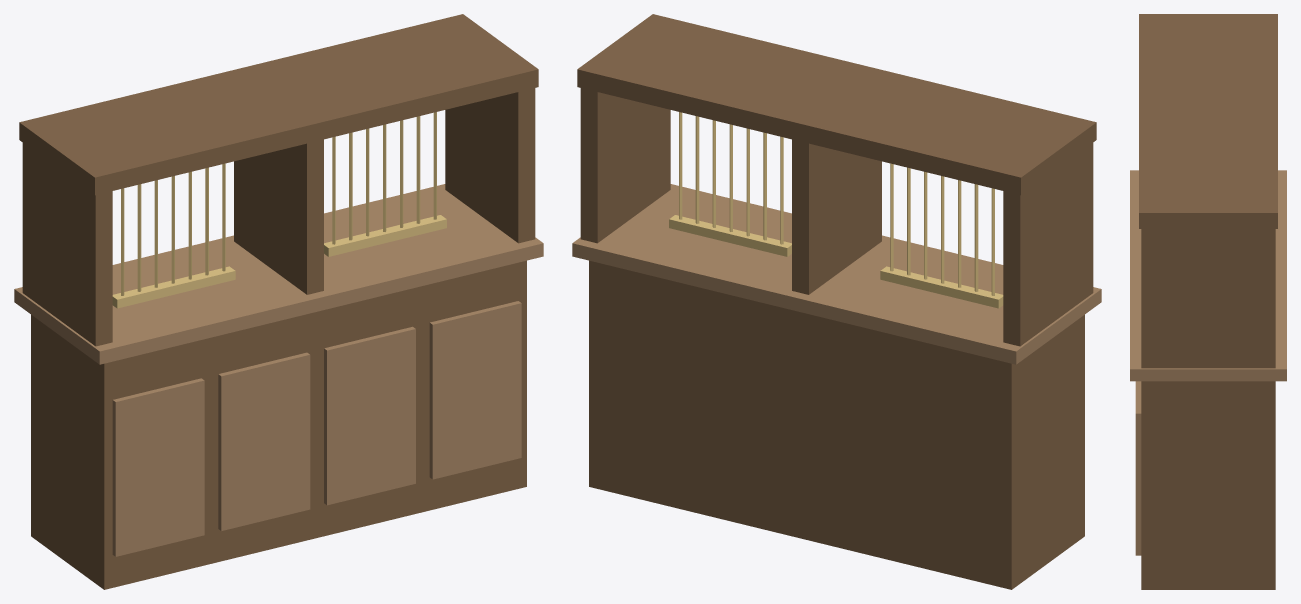
File: SM_Bank_Counter.glb
3 views of the same model, side by side, from view 1: azimuth 30°, elevation 25°; view 2: azimuth 150°, elevation 25°; view 3: azimuth 270°, elevation 25° (orthographic). The views are drawn at different scales.
Visible parts, largest first — view 1: SM_Bank_Counter; view 2: SM_Bank_Counter; view 3: SM_Bank_Counter.
Boxes of the visible parts, x1,y1,x2,y2 form: SM_Bank_Counter: [14, 14, 543, 589]; SM_Bank_Counter: [572, 14, 1101, 589]; SM_Bank_Counter: [1130, 14, 1286, 589].
Bounding box in the file's own units: 2.1 × 1.88 × 0.7.
